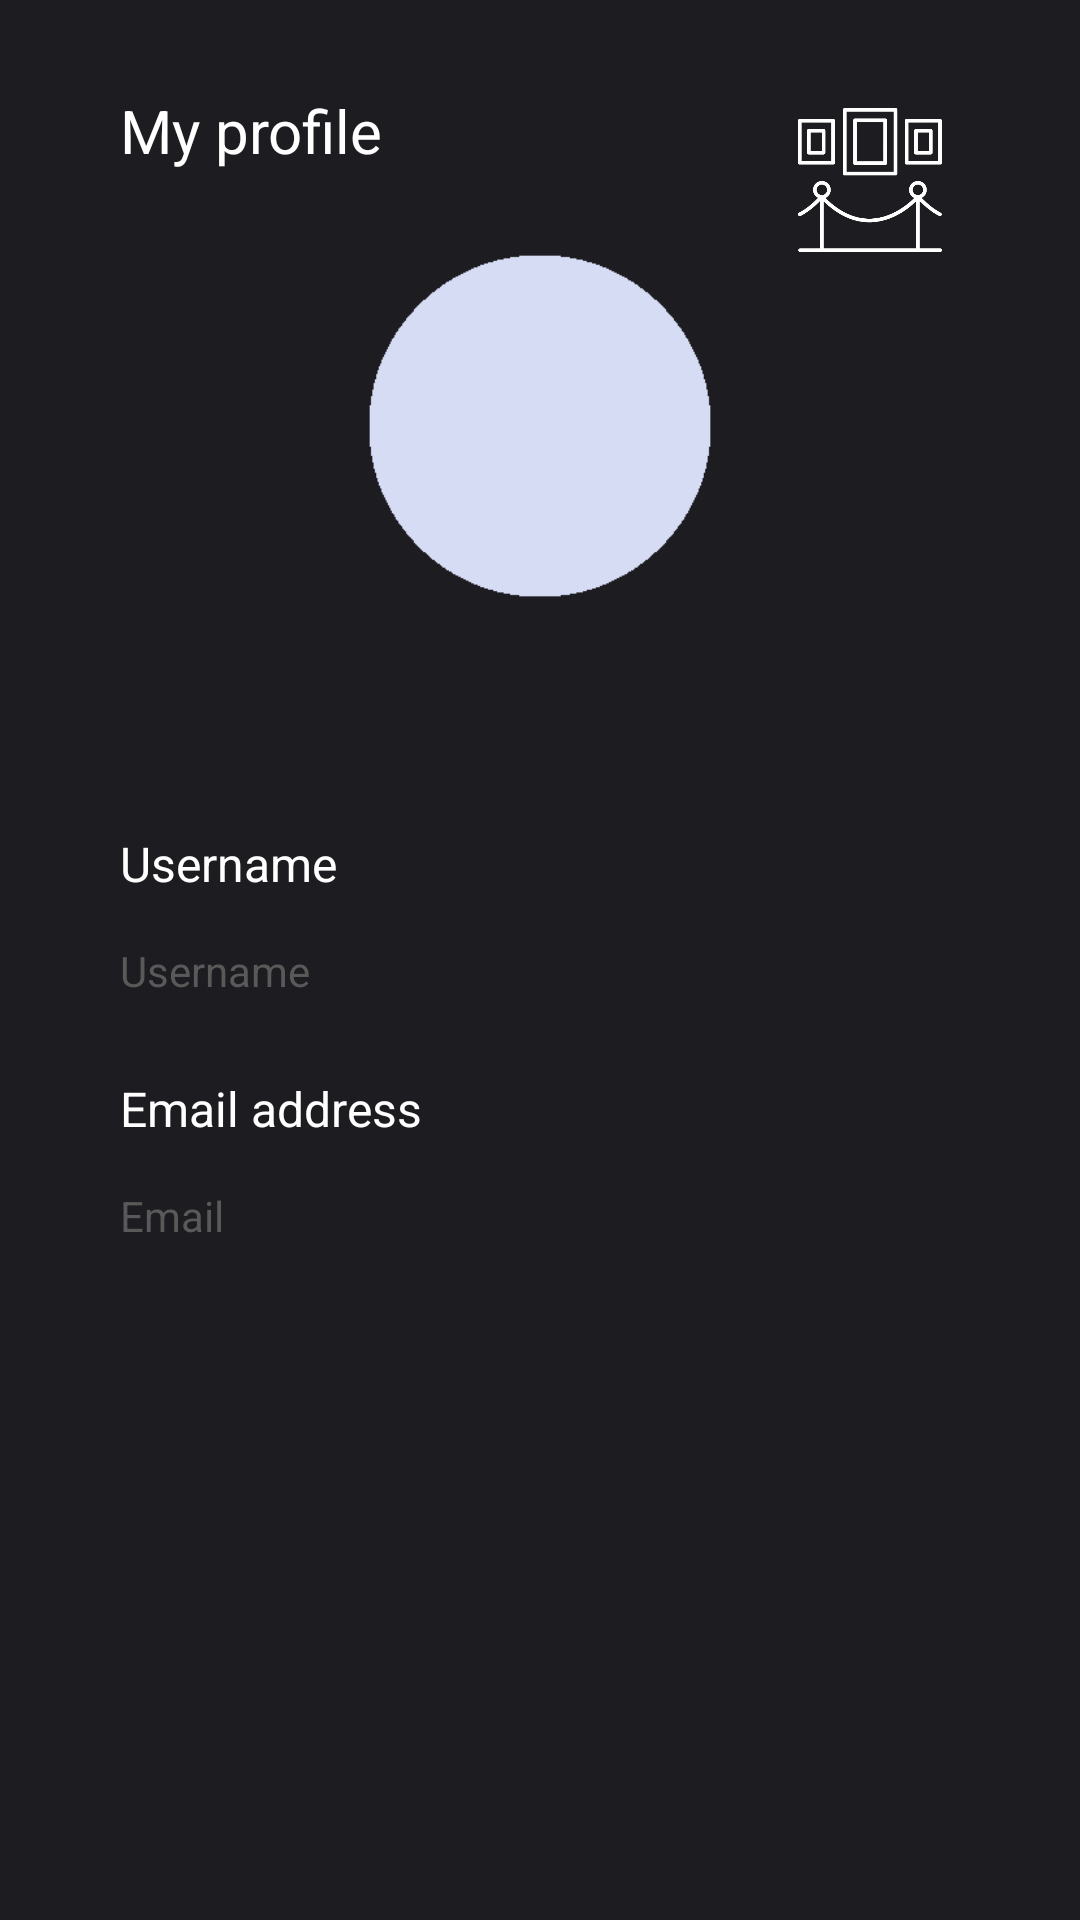

Icons on this 1080px x 1920px Android screen, each with its box as (x1, y1, x2, y2):
art gallery: (798, 108, 942, 252)
